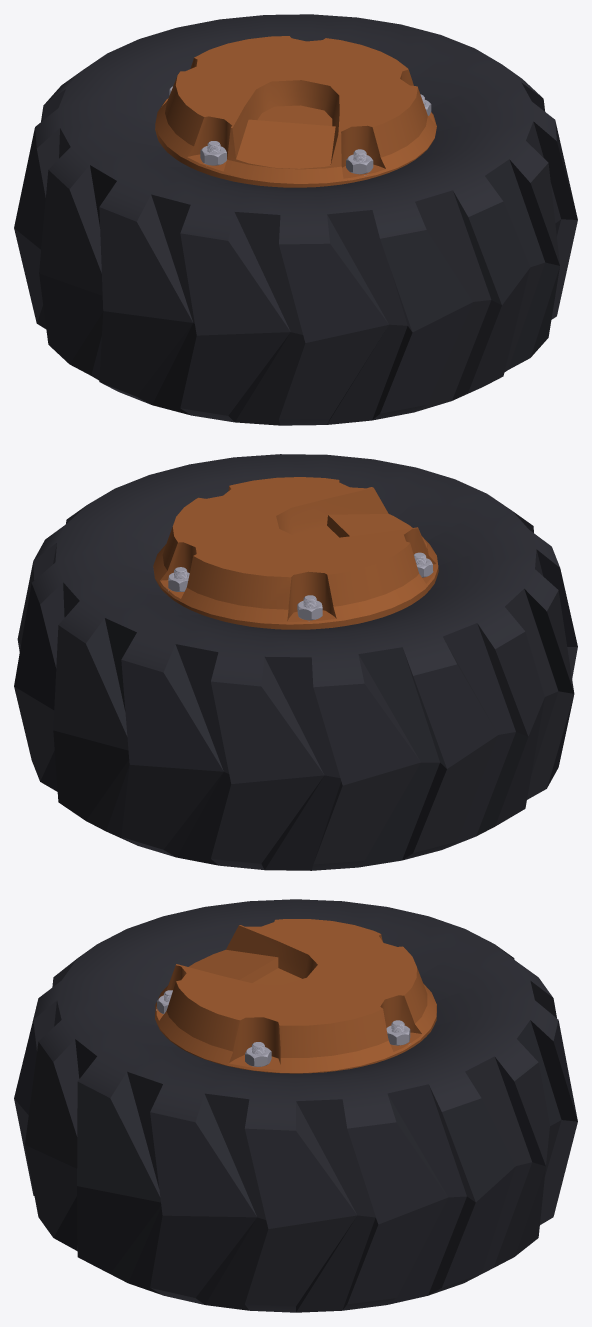
Rendered from VehicleFLW.fbx.
3 views of the same model, one above another, from view 1: azimuth 30°, elevation 25°; view 2: azimuth 150°, elevation 25°; view 3: azimuth 270°, elevation 25° (orthographic).
Parts seen in each view (by area): view 1: FLW; view 2: FLW; view 3: FLW.
Part boxes in pixels (<box>): FLW: <box>14,14,577,425</box>; FLW: <box>14,454,577,870</box>; FLW: <box>14,899,577,1312</box>.
Size of the model in its own units: 7.09 by 3.56 by 7.09.
